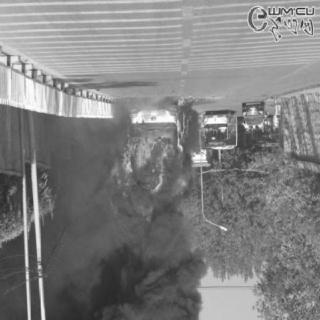Fire: (109, 96, 194, 214)
Smoke: (1, 160, 195, 317)
